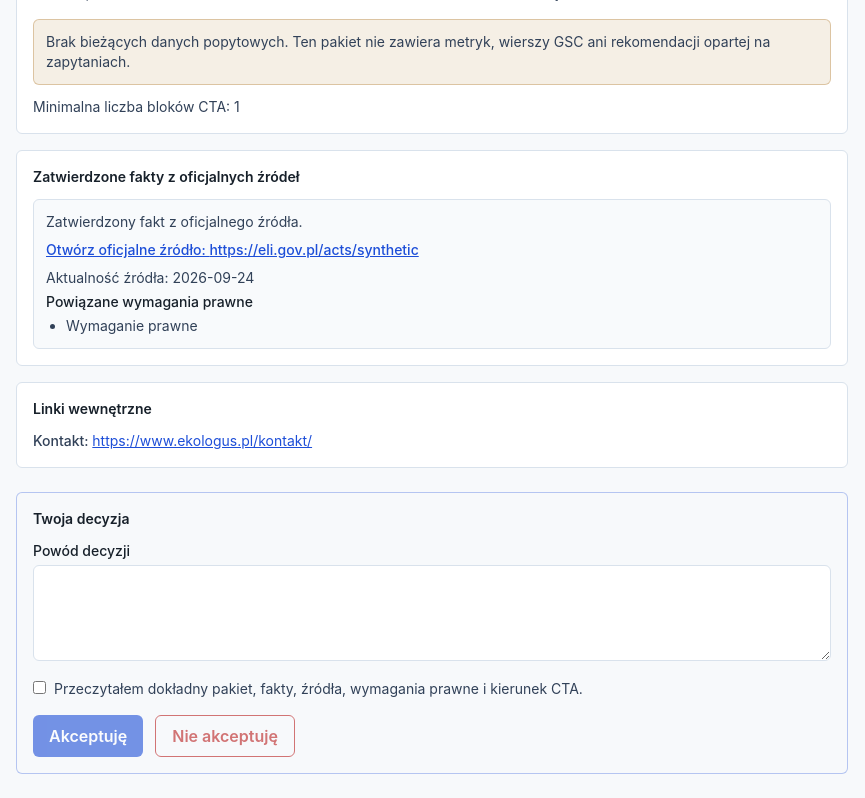
Test: v3 research packet ActionObject review › stops acceptance at the first blocked ActionObject stage
The width and height of the screenshot is (865, 798).
(page scrolled)
Type "Potwierdzam pełny odczyt dokładnego pakietu." into the text box labelled "Powód decyzji" at (432, 613), box [33,565,831,661]
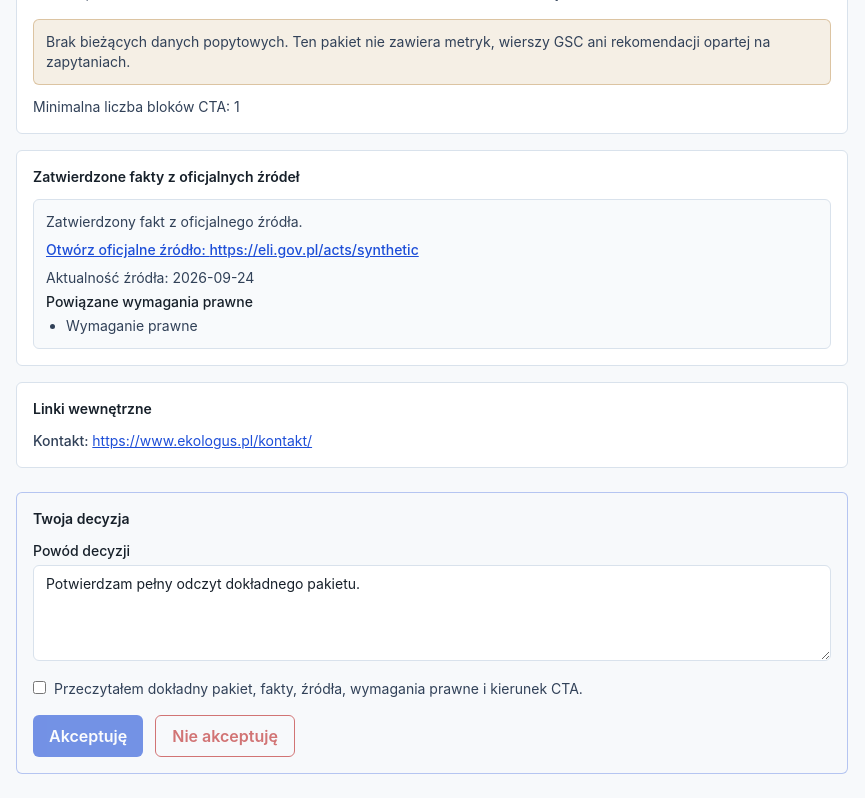
Click the checkbox labelled "Przeczytałem dokładny pakiet" at (40, 688), box [33,681,46,694]
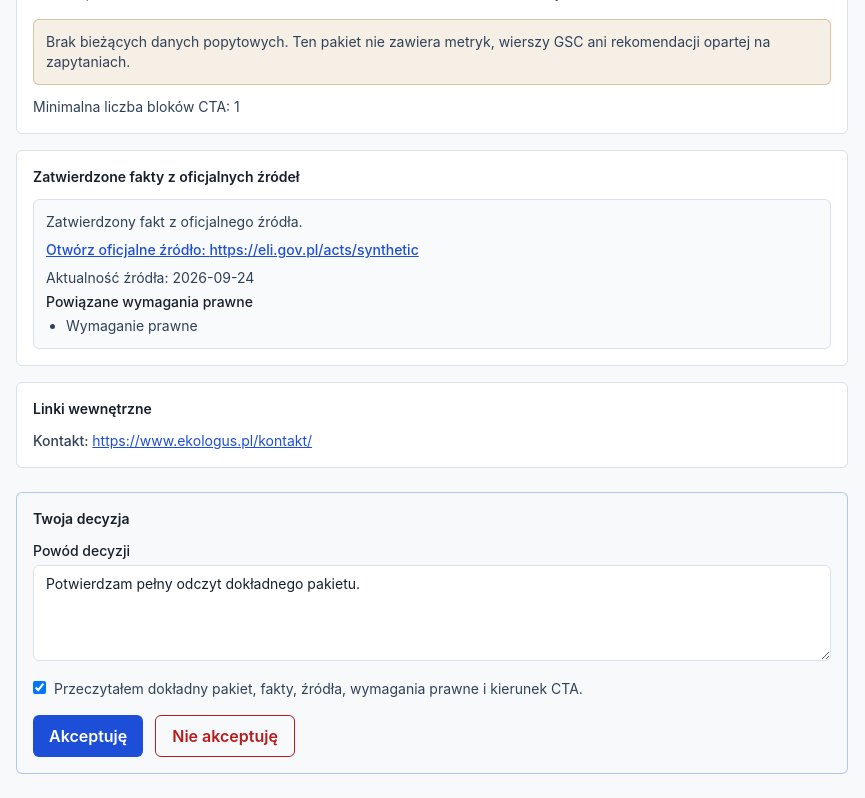
Click the button "Akceptuję" at (88, 736), box [33,715,143,757]
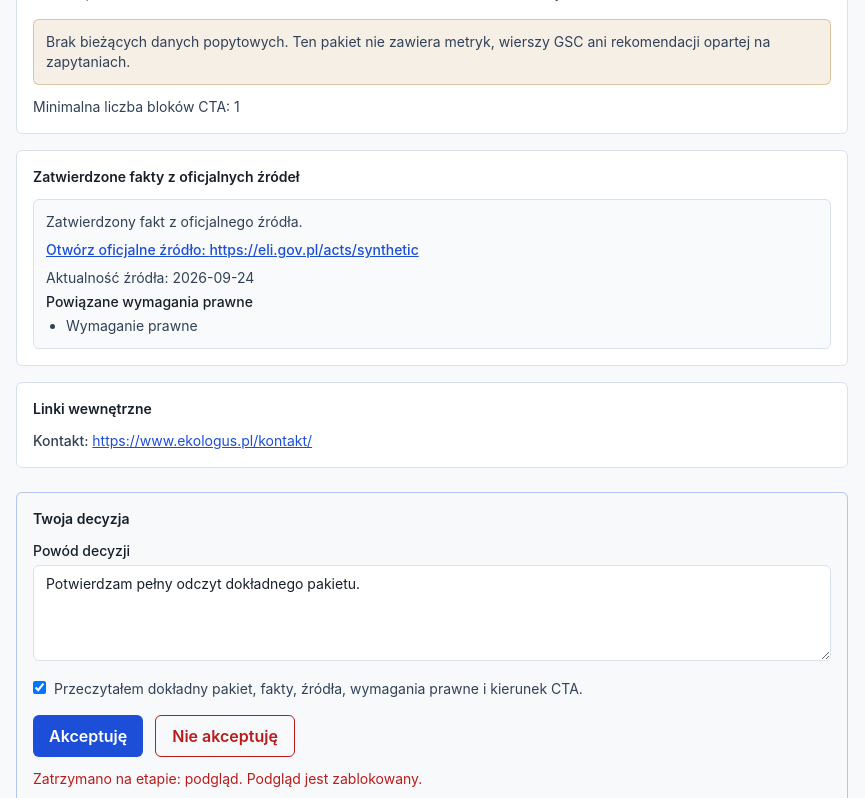
Expected: the button "Akceptuję" is enabled, [33,715,143,757]
Expected: the message shows "Zatrzymano na etapie: podgląd", [33,770,422,787]
